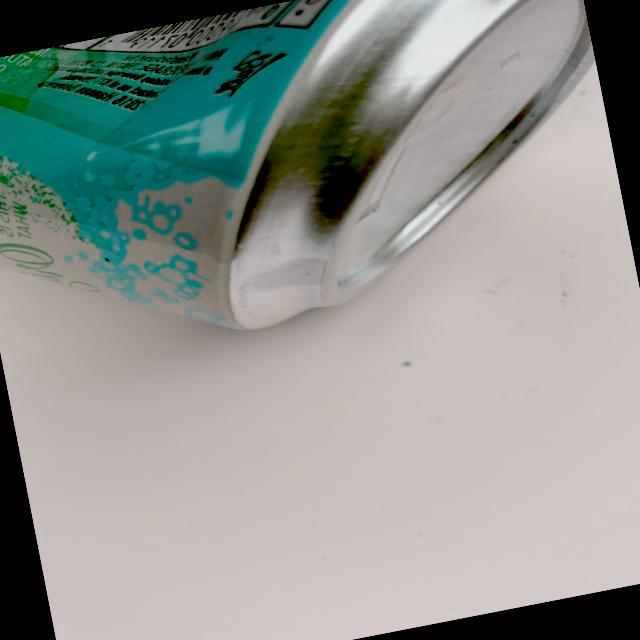metal: (0, 0, 637, 395)
